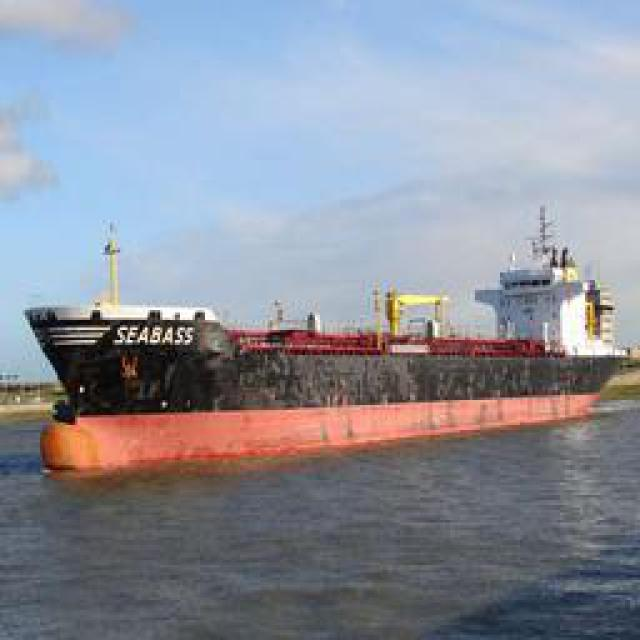Ship: (27, 216, 627, 479)
